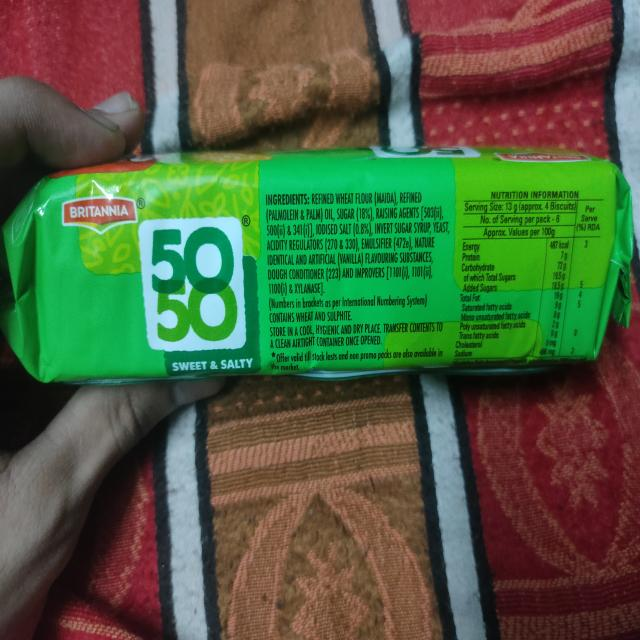50 50 biscuit: (5, 154, 640, 382)
